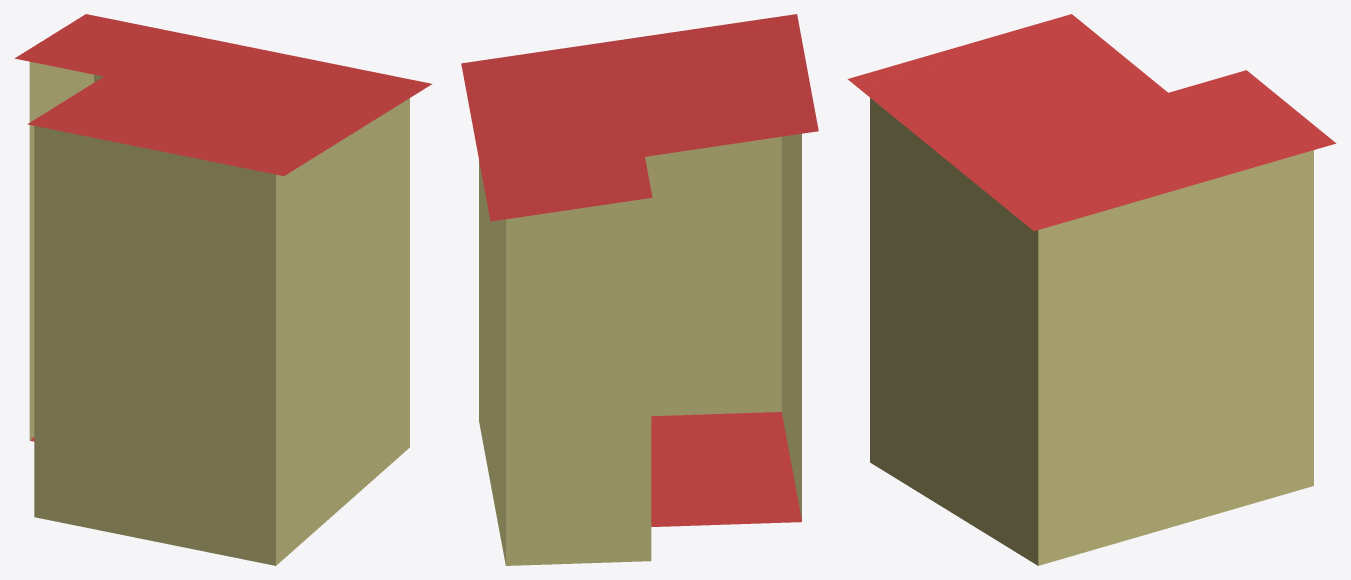
3 views of the same model, side by side, from view 1: azimuth 30°, elevation 25°; view 2: azimuth 150°, elevation 25°; view 3: azimuth 270°, elevation 25° (orthographic). The views are drawn at different scales.
Size of the model in its own units: 6.52 by 7.49 by 6.45.
